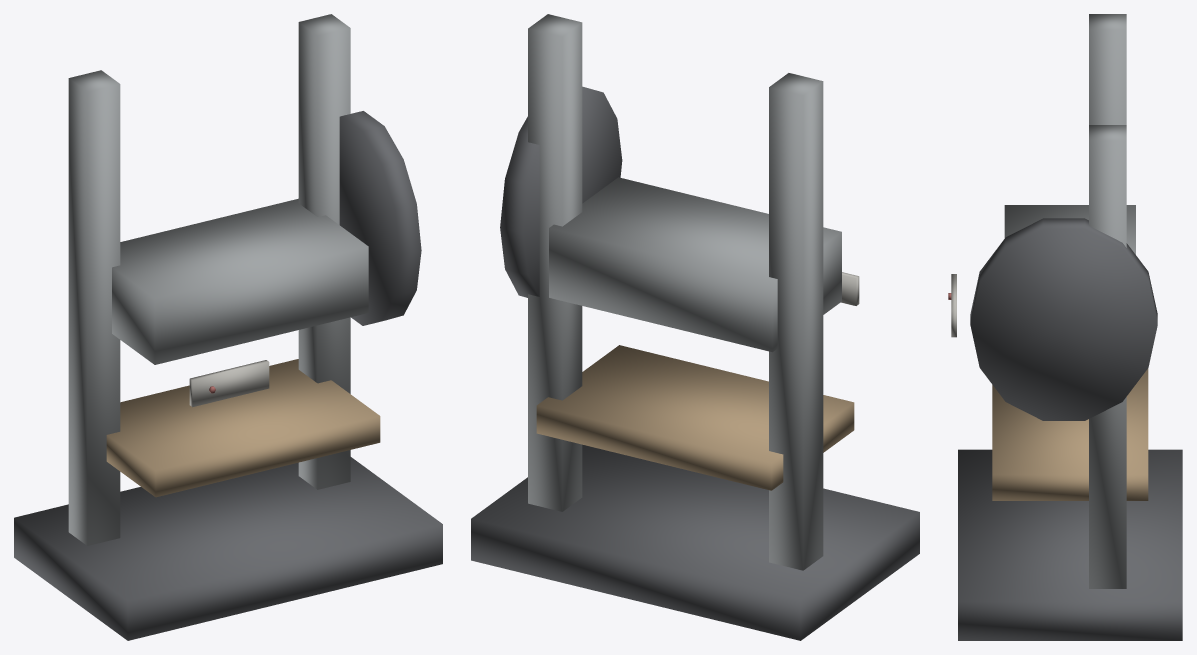
Rendered from letterpress_silhouette__tall.glb.
3 renders of one model, left to right at view 1: azimuth 30°, elevation 25°; view 2: azimuth 150°, elevation 25°; view 3: azimuth 270°, elevation 25°, orthographic. The views are drawn at different scales.
Visible parts, largest first — view 1: world; view 2: world; view 3: world.
Boxes of the visible parts, x1,y1,x2,y2 form: world: [14, 14, 442, 640]; world: [471, 14, 919, 640]; world: [948, 14, 1182, 640].
Bounding box in the file's own units: 1.15 × 1.72 × 0.751.
